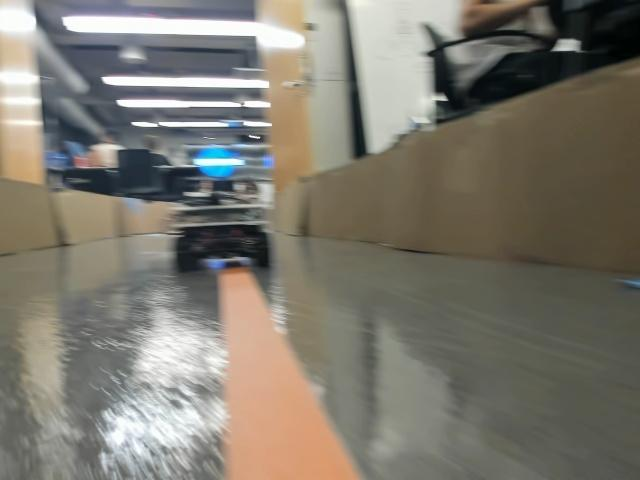Car: (169, 178, 271, 270)
